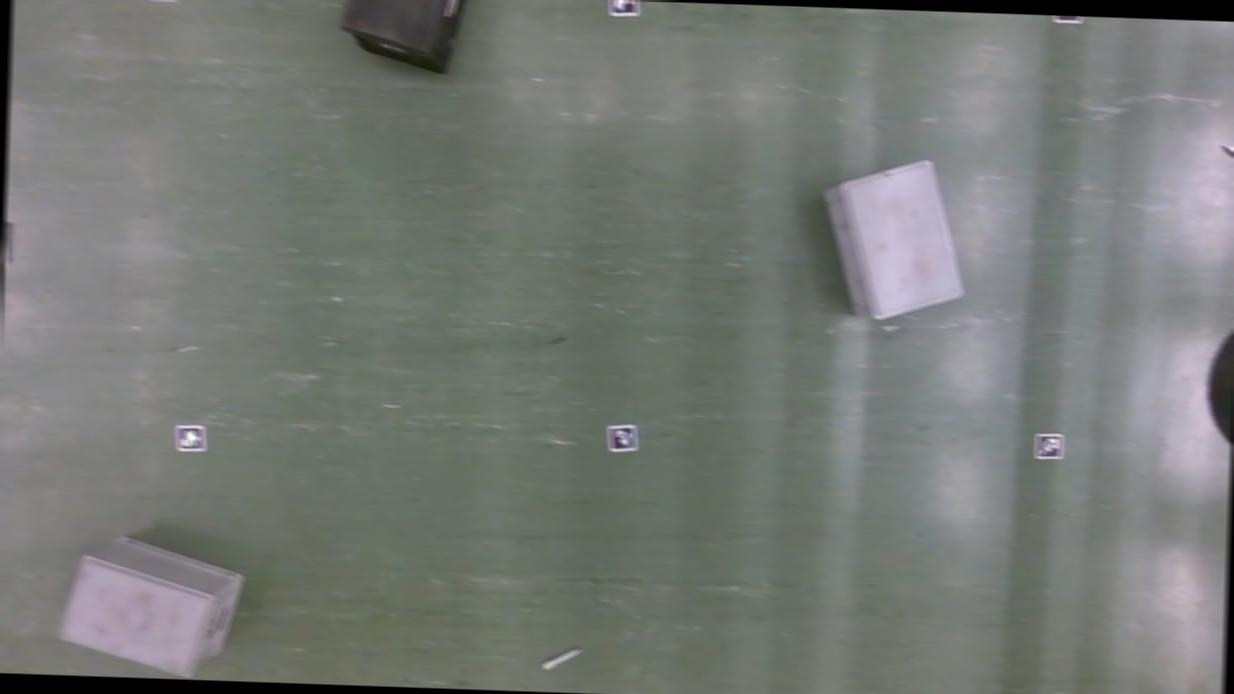probes: (540, 646, 580, 672), (1217, 145, 1234, 175), (1, 220, 12, 266)
rako: (801, 150, 980, 343), (336, 0, 477, 74)
